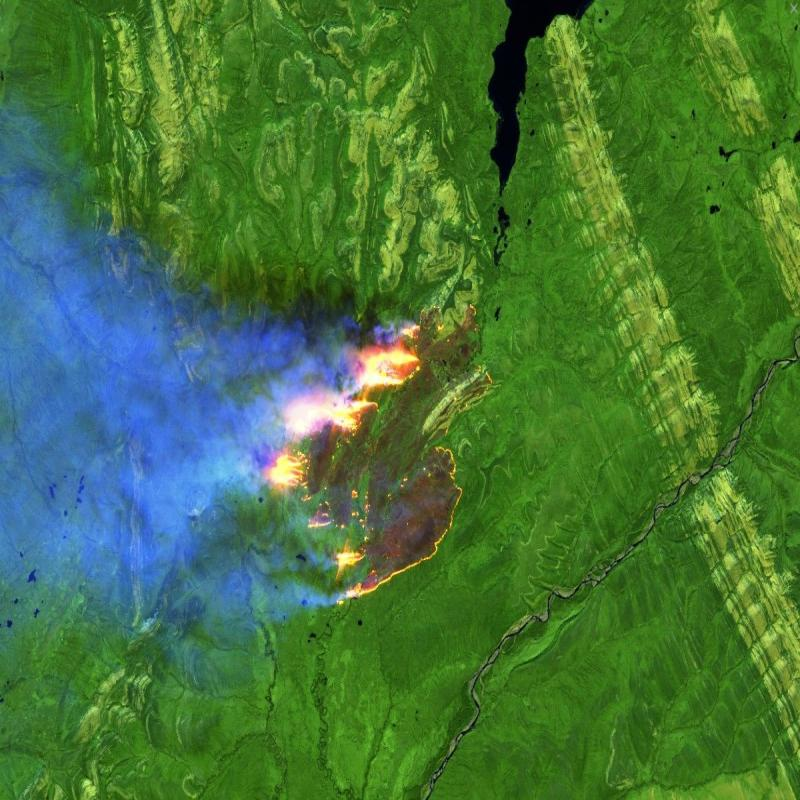fire: (255, 302, 496, 612)
